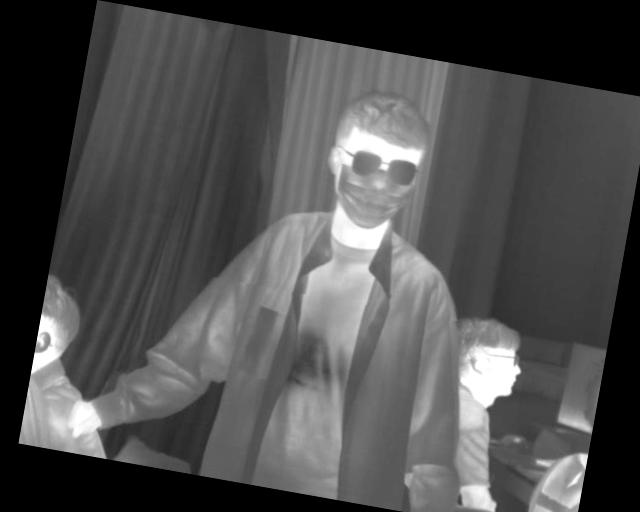face: (468, 237, 601, 414)
